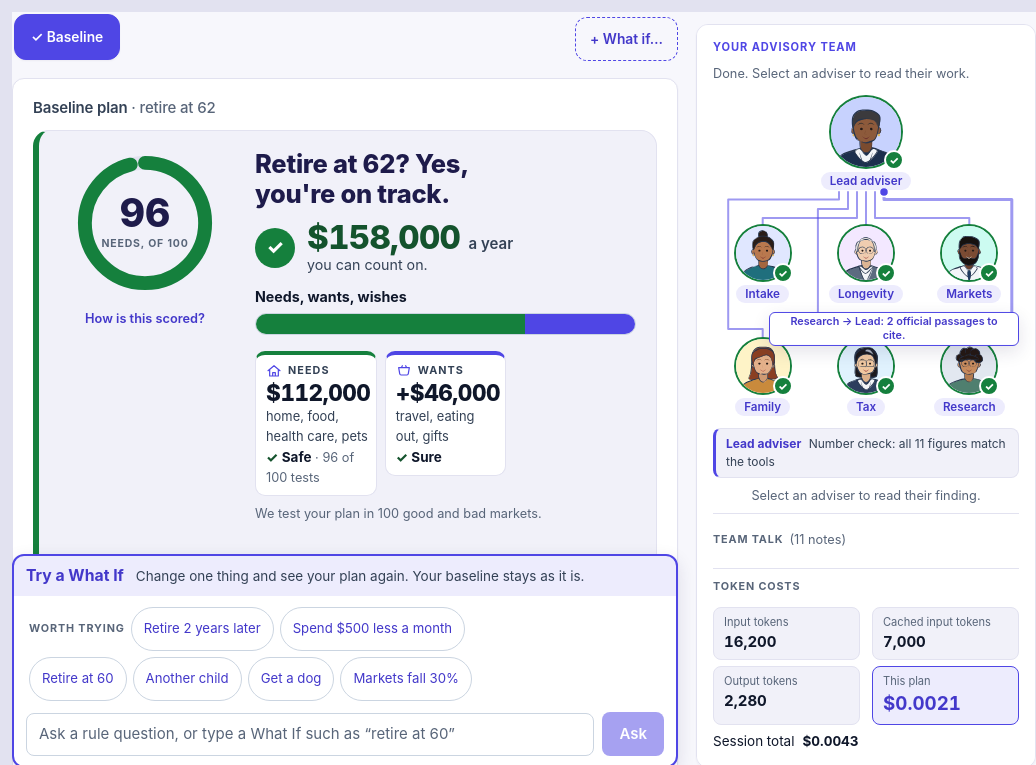
Plan screen: scenario tabs › tells the person that rebuilding a stale plan clears the What Ifs
The image size is (1036, 765).
Click the button "Retire at 60" at (78, 679), box [29, 657, 127, 701]
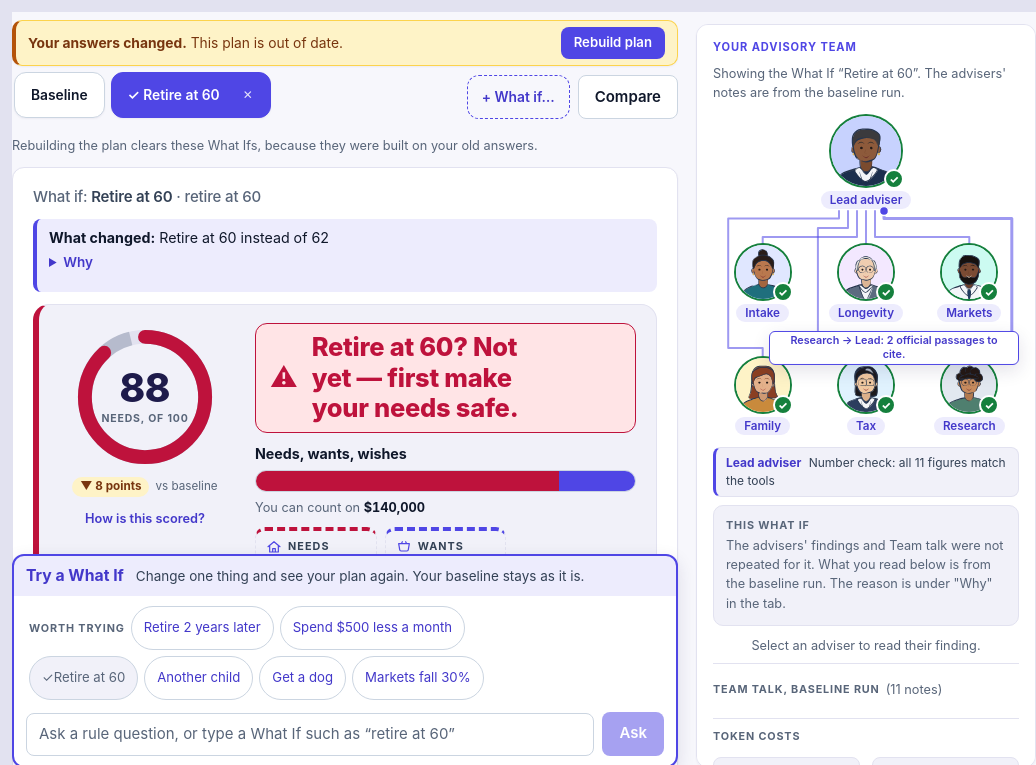
Check: the message with test id "scen-stale" shows "Rebuilding the plan clears these What Ifs", box [12, 138, 538, 153]
